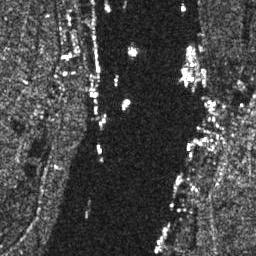ship: (179, 65, 191, 88), (200, 66, 209, 88), (121, 96, 132, 112), (102, 2, 114, 13), (193, 137, 204, 148), (179, 1, 187, 13), (96, 143, 104, 155), (185, 141, 191, 153)
